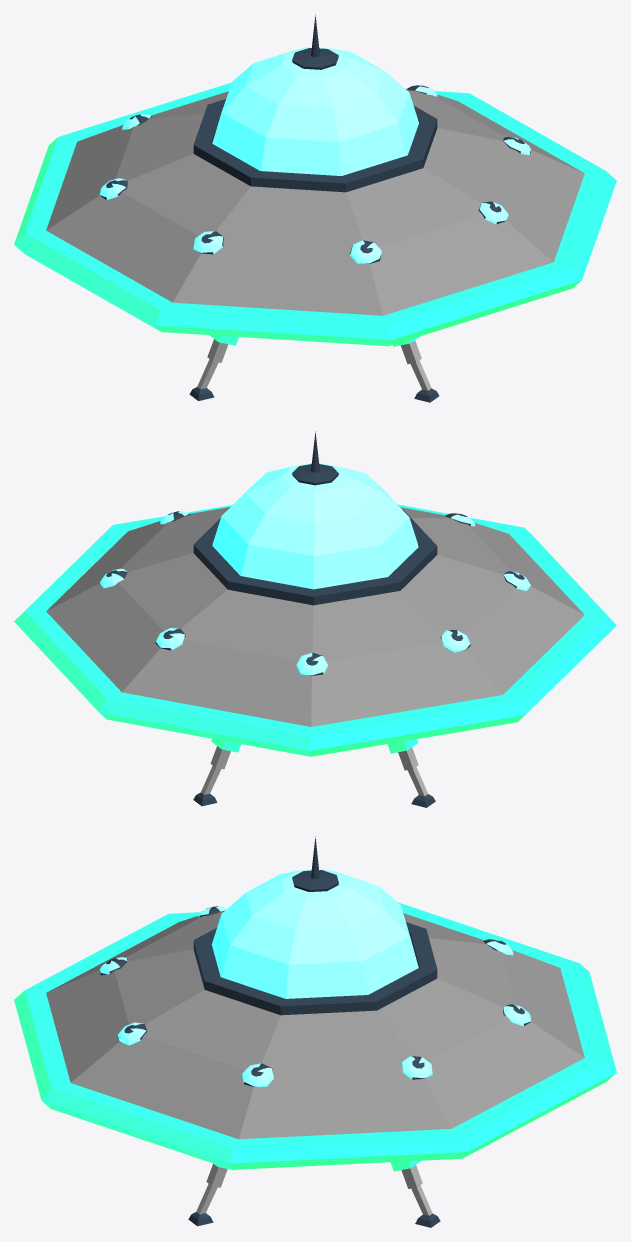
The model's file is ufo.glb.
3 renders of one model, top to bottom at view 1: azimuth 30°, elevation 25°; view 2: azimuth 150°, elevation 25°; view 3: azimuth 270°, elevation 25°, orthographic. The views are drawn at different scales.
Visible parts, largest first — view 1: Node, Node.002, Node.001; view 2: Node, Node.002, Node.001; view 3: Node, Node.002, Node.001.
Part boxes in pixels (x1,y1,x2,y2): Node: (14,14,616,402); Node.002: (212,47,418,175); Node.001: (99,85,531,263); Node: (14,431,616,807); Node.002: (212,463,418,589); Node.001: (100,511,530,675); Node: (14,836,616,1227); Node.002: (211,869,418,998); Node.001: (99,906,531,1086).
Bounding box in the file's own units: 2.15 × 1.41 × 2.15.
